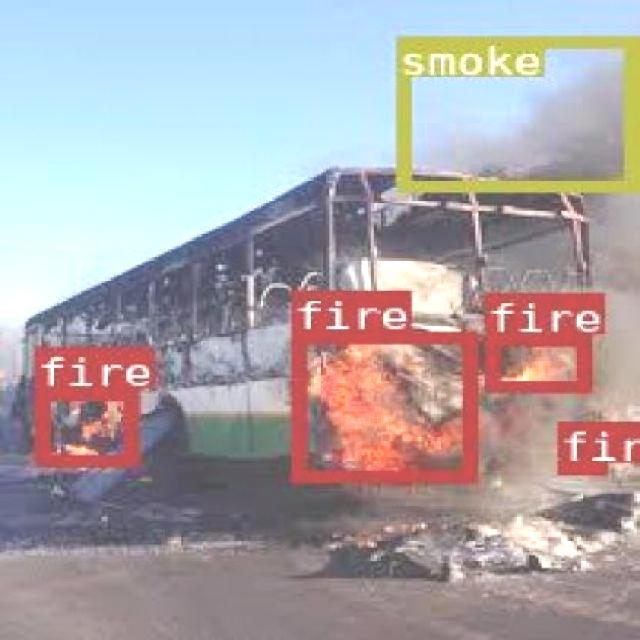fire: (290, 330, 473, 481), (32, 386, 134, 463), (484, 333, 588, 389), (556, 419, 604, 472)
smoke: (394, 35, 634, 188)
